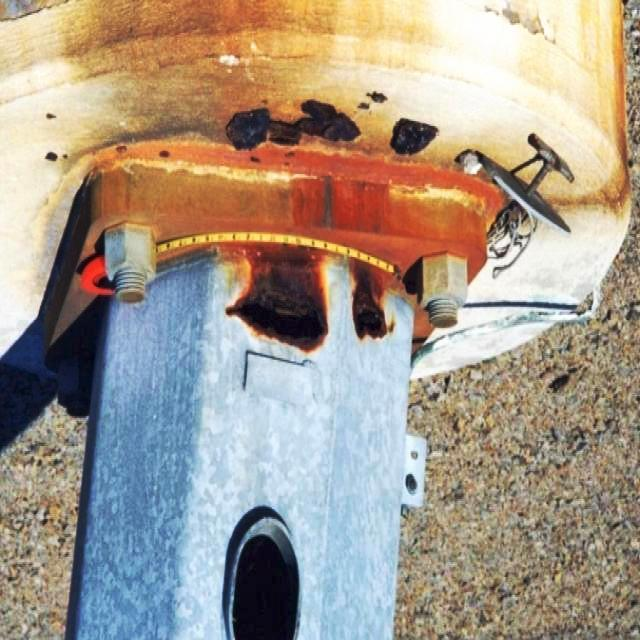Corrosion: (50, 140, 504, 340), (226, 250, 328, 351), (293, 176, 389, 232), (353, 262, 388, 338)
